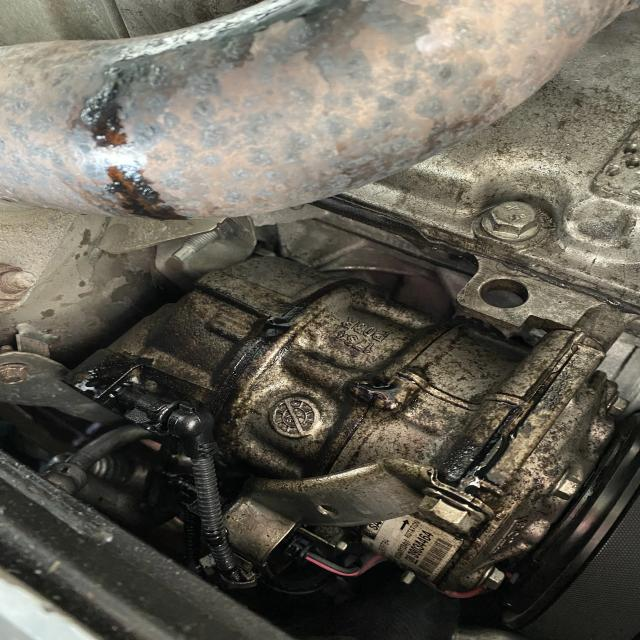corrosion: (70, 340, 224, 479), (87, 76, 182, 224), (330, 351, 419, 436), (451, 414, 512, 500)
